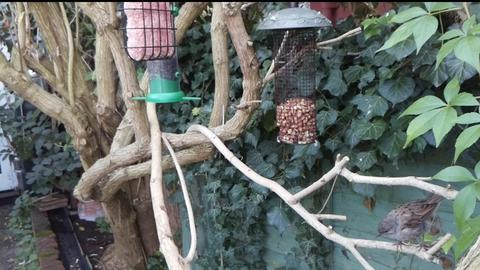dunnock: (375, 192, 444, 254)
